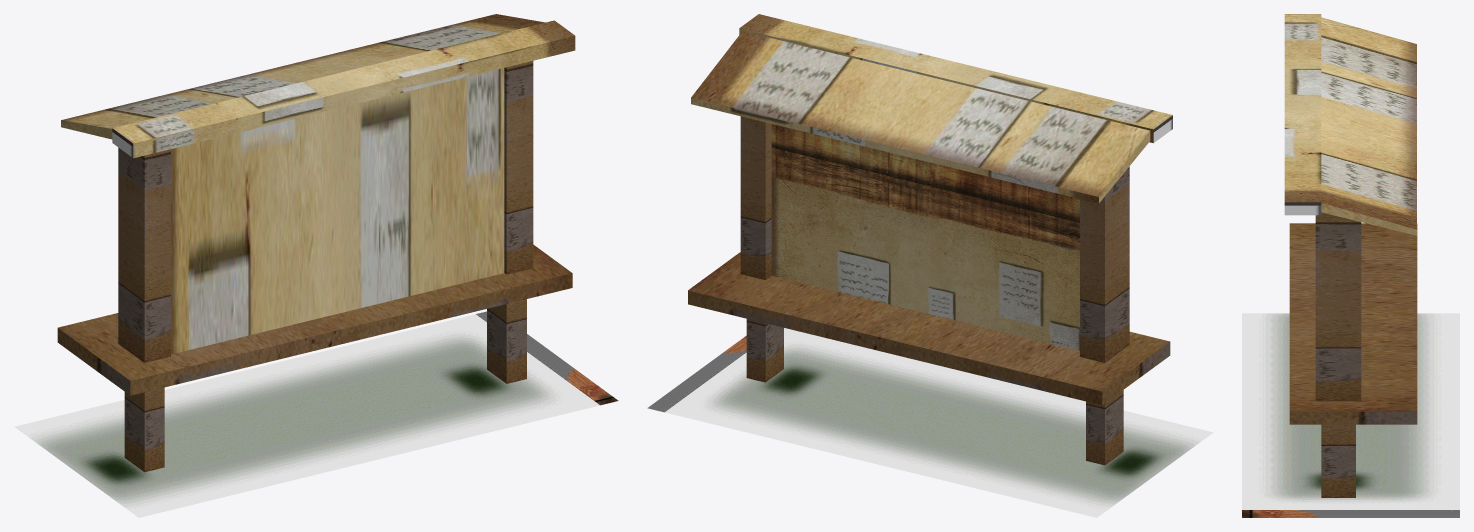
Rendered from farm_build_04.fbx.
The picture shows the model from 3 angles, left to right: view 1: azimuth 30°, elevation 25°; view 2: azimuth 150°, elevation 25°; view 3: azimuth 270°, elevation 25°; orthographic projection. The views are drawn at different scales.
Parts seen in each view (by area): view 1: farm_build_04, shadow; view 2: farm_build_04, shadow; view 3: farm_build_04, shadow.
Part boxes in pixels (box(x1,y1,x2,y2)): farm_build_04: box(57, 14, 575, 472); shadow: box(14, 311, 618, 517); farm_build_04: box(688, 14, 1172, 465); shadow: box(647, 328, 1213, 517); farm_build_04: box(1284, 14, 1417, 497); shadow: box(1242, 313, 1459, 517).
Size of the model in its own units: 3.57 by 2.52 by 1.61.
